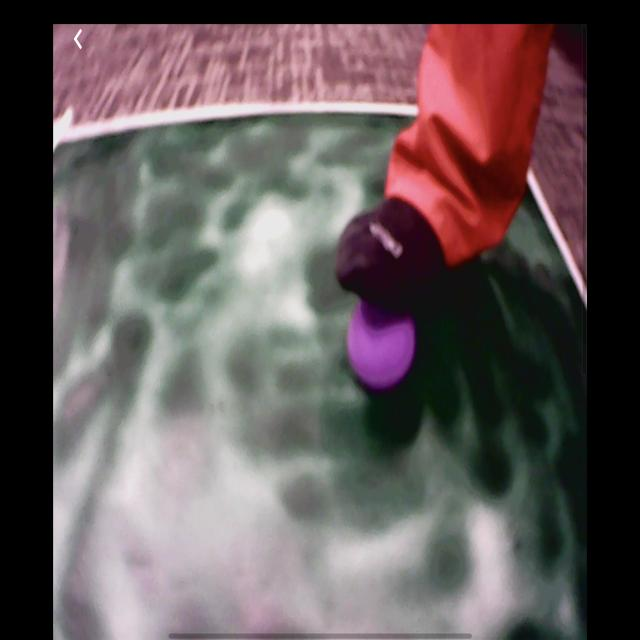ball: (350, 306, 417, 390)
